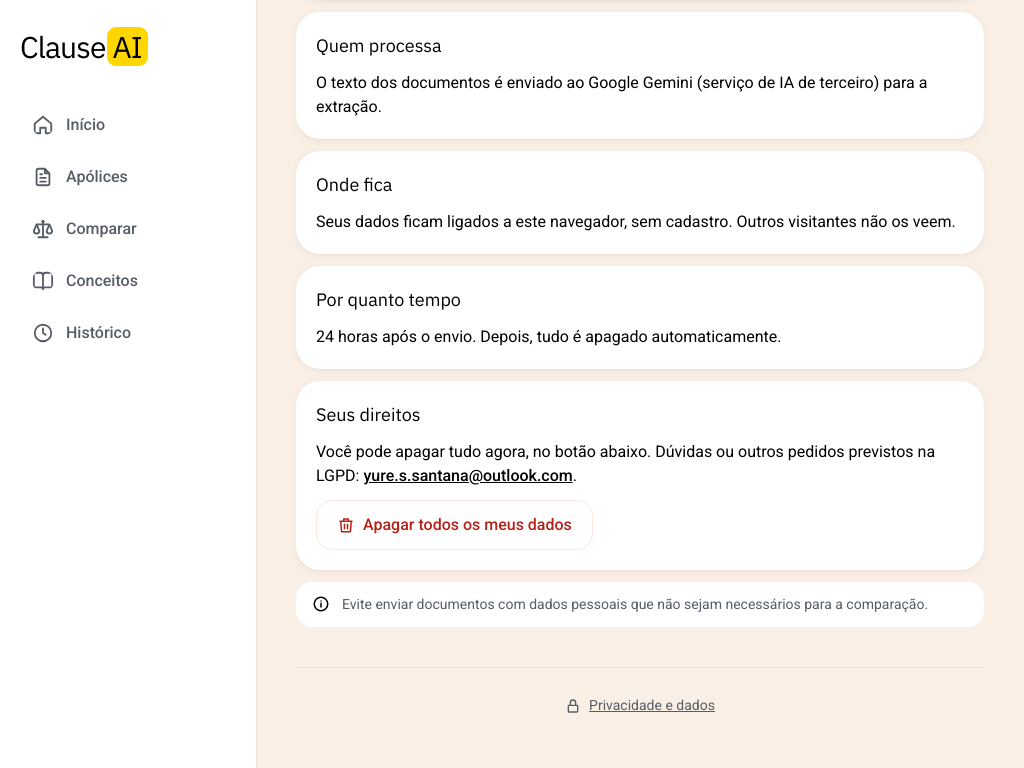
Test: Privacidade e dados › sem a contagem, ainda permite apagar com texto genérico
(page scrolled)
Click the button "Apagar todos os meus dados".
click(454, 525)  # box [316, 500, 593, 550]
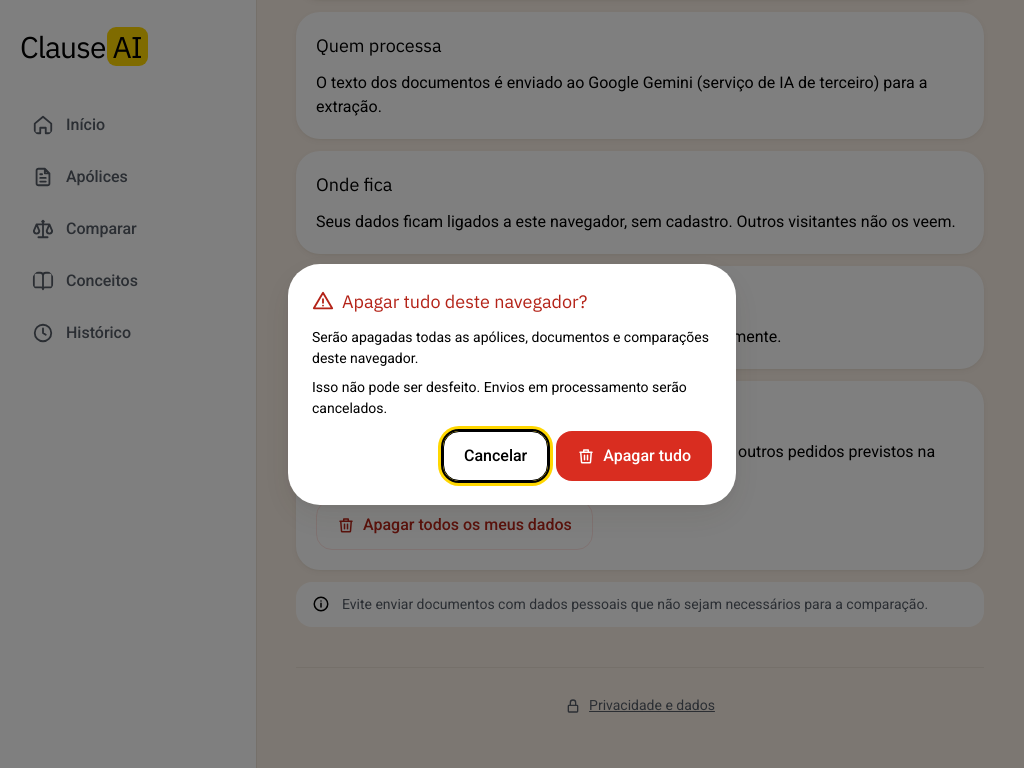
Now the text "Serão apagadas todas as apólices, documentos e comparações deste navegador." is shown, box [312, 326, 712, 368]
